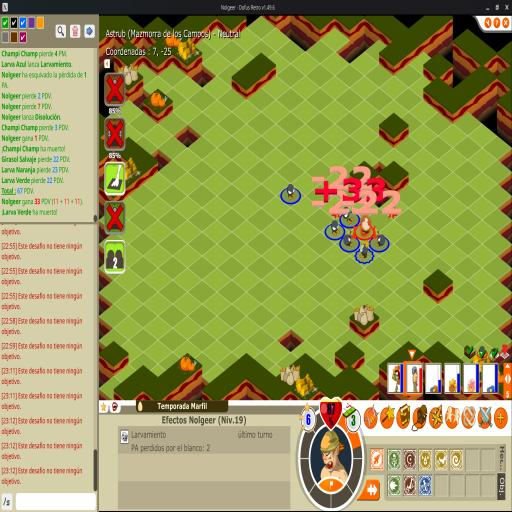Enemigos: (359, 238, 370, 259), (343, 206, 355, 224), (286, 183, 297, 200), (331, 219, 341, 237), (343, 233, 355, 247), (375, 233, 386, 247)
Personaje: (360, 216, 370, 236)
